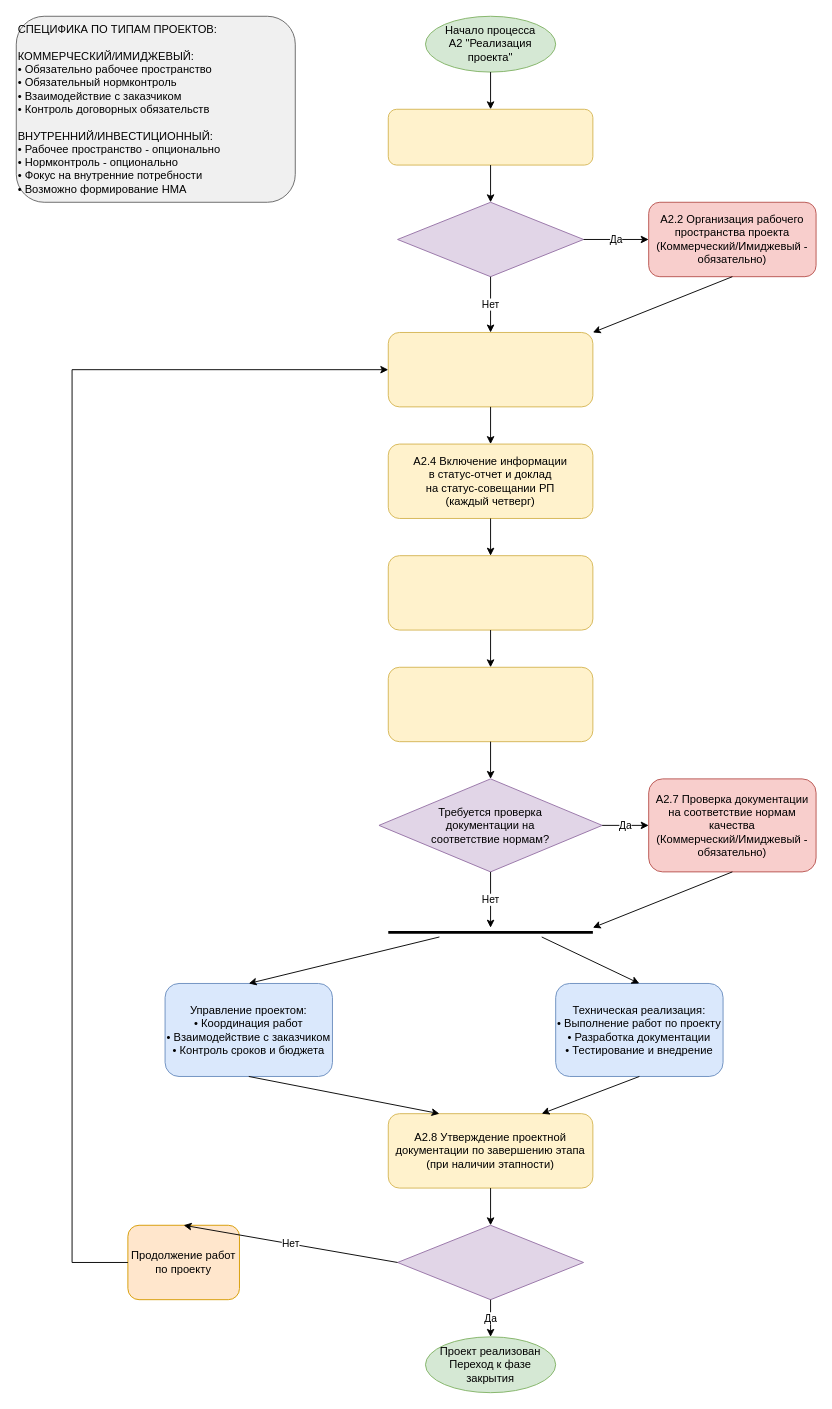
This 832x1409 diagram has some shape labels left out. Here are the shapes that lost their labels. From the top down, the box of each, then its label:
(387, 108, 593, 165): А2.1 Организация узла проекта (для всех типов проектов)
(397, 201, 584, 277): Нужно рабочее пространство?
(387, 332, 593, 407): А2.3 Формирование отчета по контрольным точкам (раз в 2 недели)
(387, 555, 593, 630): А2.5 Включение информации в статус-отчет подразделений (каждый понедельник)
(387, 666, 593, 742): А2.6 Постановка, учет и контроль времени в СУНВ (постоянно)
(397, 1224, 584, 1300): Проект завершен?
